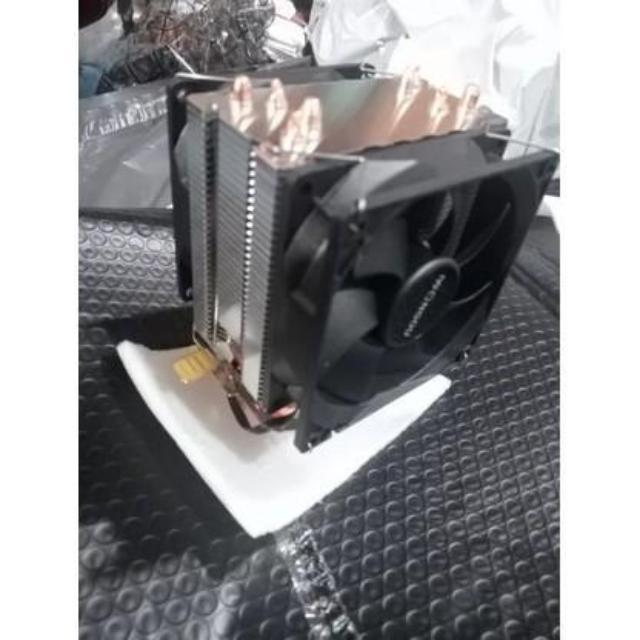CPU_Fan: (172, 64, 524, 438)
